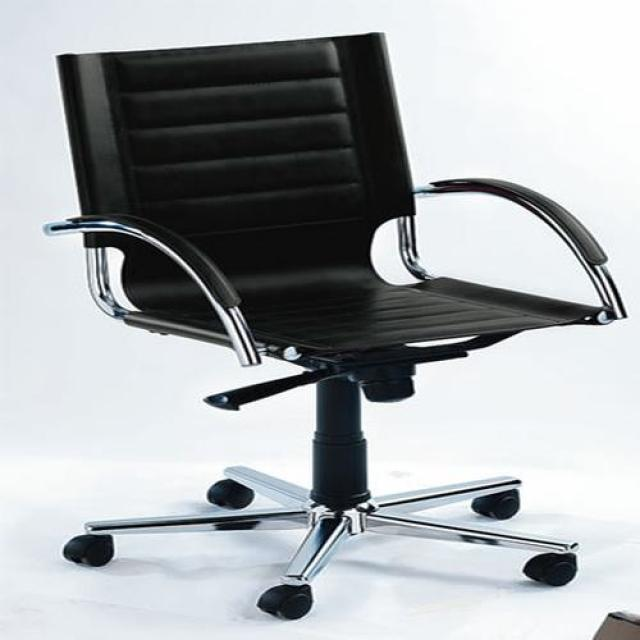swivelchair: (44, 32, 630, 623)
